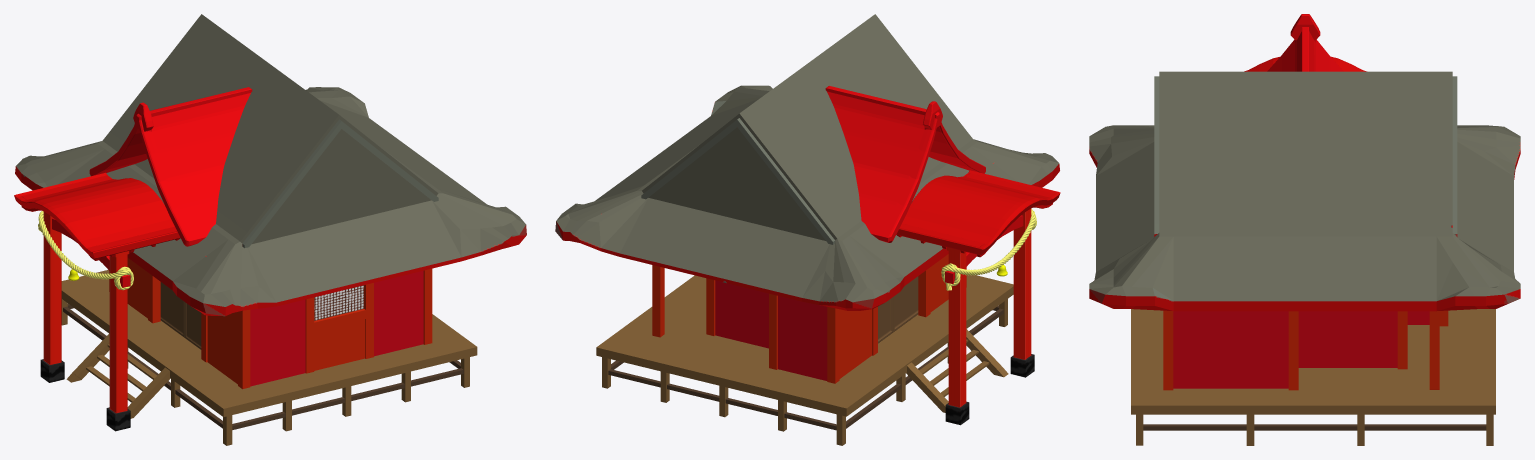
Rendered from HakureiShrine.fbx.
3 renders of one model, left to right at view 1: azimuth 30°, elevation 25°; view 2: azimuth 150°, elevation 25°; view 3: azimuth 270°, elevation 25°, orthographic. The views are drawn at different scales.
Parts seen in each view (by area): view 1: Roof, BaseBoard, TrangleShelt, Eaves, Wall1.004, Wall1.005, SupportBeam2, SupportBeam1, Wall1, Ladder, Wall3, Wall9.001 (+10 smaller); view 2: Roof, BaseBoard, TrangleShelt, Eaves, Wall2, SupportBeam1, Wall1.001, SupportBeam2, Ladder, Wall4, DoorLeft, HouseBeam4 (+7 smaller); view 3: Roof, BaseBoard, Wall7, Wall7.001, TrangleShelt, HouseBeam5, HouseBeam6.001, HouseBeam6, Line.005, Line.006, Line.009, HouseBeam6.004 (+1 smaller).
Boxes of the visible parts, <box> form: Roof: <box>15,14,526,316</box>; BaseBoard: <box>61,270,477,417</box>; TrangleShelt: <box>89,87,252,246</box>; Eaves: <box>14,172,180,260</box>; Wall1.004: <box>250,299,305,386</box>; Wall1.005: <box>374,270,423,356</box>; SupportBeam2: <box>106,251,130,431</box>; SupportBeam1: <box>40,211,64,382</box>; Wall1: <box>314,319,365,370</box>; Ladder: <box>66,333,170,418</box>; Wall3: <box>207,314,237,384</box>; Wall9.001: <box>314,285,363,320</box>; Roof: <box>555,14,1059,310</box>; BaseBoard: <box>596,274,1013,416</box>; TrangleShelt: <box>825,86,985,242</box>; Eaves: <box>896,170,1060,257</box>; Wall2: <box>778,296,827,380</box>; SupportBeam1: <box>945,247,969,425</box>; Wall1.001: <box>715,280,768,348</box>; SupportBeam2: <box>1010,208,1034,377</box>; Ladder: <box>906,329,1008,412</box>; Wall4: <box>839,309,871,378</box>; DoorLeft: <box>893,276,918,332</box>; HouseBeam4: <box>827,307,839,383</box>; Roof: <box>1089,71,1520,311</box>; BaseBoard: <box>1131,309,1495,414</box>; Wall7: <box>1173,311,1288,388</box>; Wall7.001: <box>1298,311,1397,367</box>; TrangleShelt: <box>1267,14,1343,71</box>; HouseBeam5: <box>1163,310,1173,390</box>; HouseBeam6.001: <box>1288,311,1298,390</box>; HouseBeam6: <box>1429,311,1439,389</box>; Line.005: <box>1364,424,1486,430</box>; Line.006: <box>1143,424,1246,430</box>; Line.009: <box>1254,424,1357,430</box>; HouseBeam6.004: <box>1397,311,1407,369</box>.
Bounding box in the file's own units: 3409 × 2466 × 3092.
Materials: 17 (17 with a texture image).
